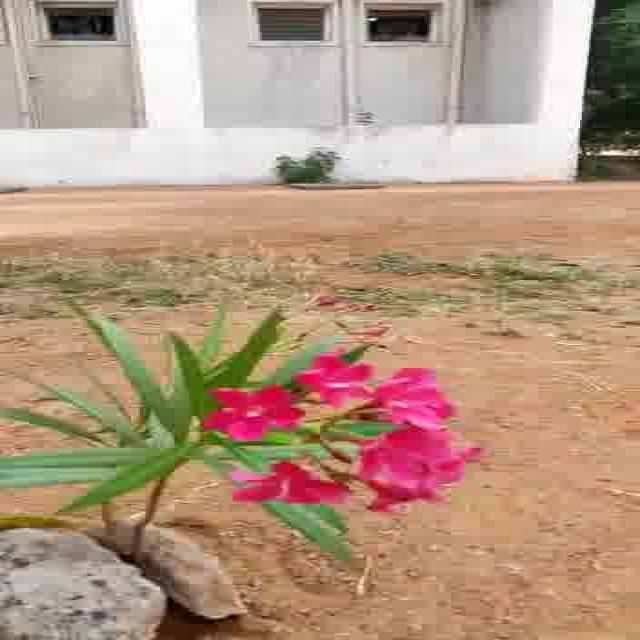Oleander: (16, 312, 488, 527)
